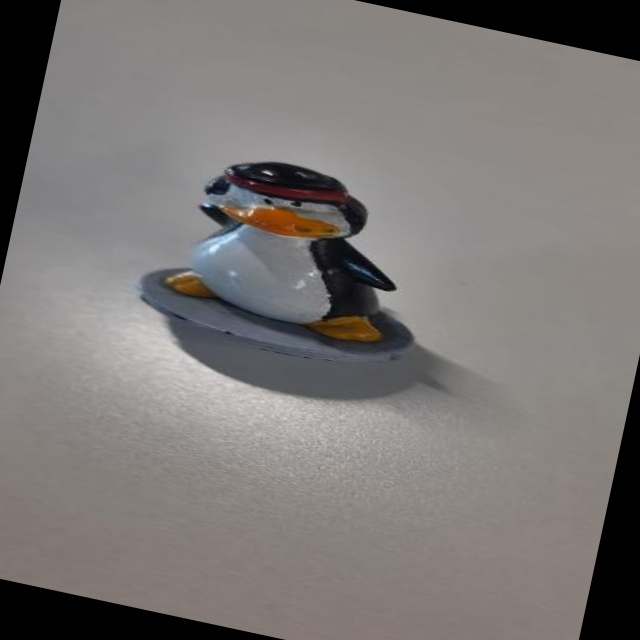Penguin: (114, 129, 483, 389)
